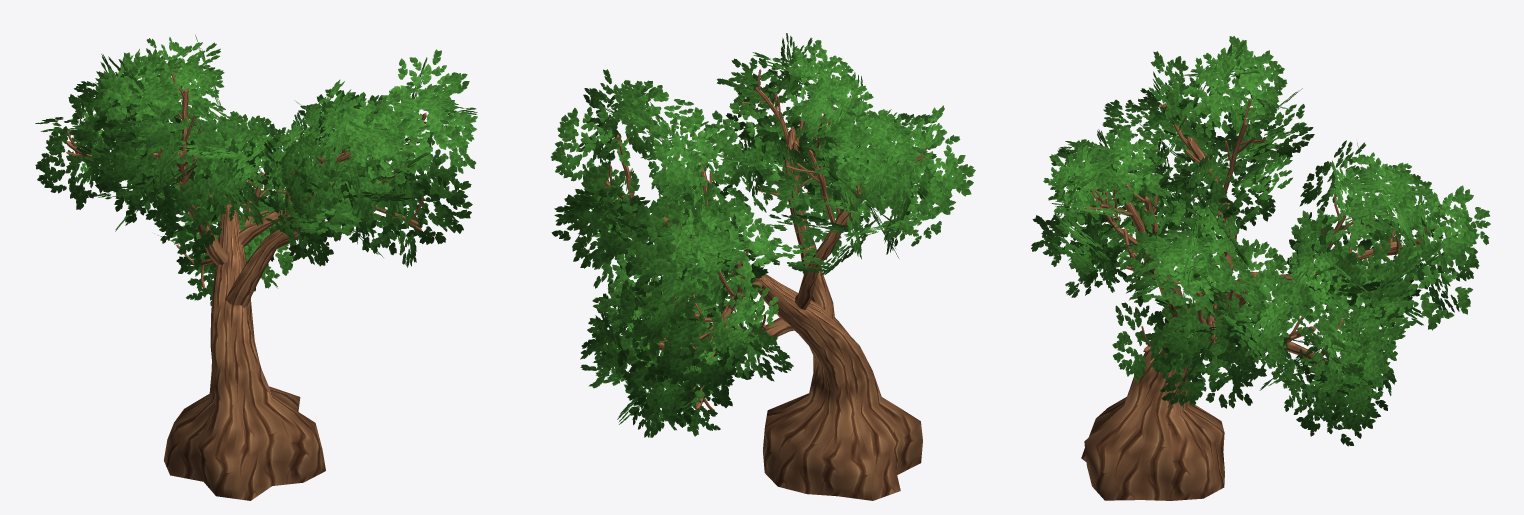
File: ct_heart_1.gltf
3 views of the same model, side by side, from view 1: azimuth 30°, elevation 25°; view 2: azimuth 150°, elevation 25°; view 3: azimuth 270°, elevation 25° (orthographic). The views are drawn at different scales.
Visible parts, largest first — view 1: ct_heart_1_leaves_LOD0, ct_heart_1_trunk_LOD0; view 2: ct_heart_1_leaves_LOD0, ct_heart_1_trunk_LOD0; view 3: ct_heart_1_leaves_LOD0, ct_heart_1_trunk_LOD0.
Part boxes in pixels (box(x1,y1,x2,y2)): ct_heart_1_leaves_LOD0: box(35, 34, 477, 305); ct_heart_1_trunk_LOD0: box(65, 72, 426, 500); ct_heart_1_leaves_LOD0: box(551, 33, 975, 437); ct_heart_1_trunk_LOD0: box(601, 69, 927, 500); ct_heart_1_leaves_LOD0: box(1031, 36, 1490, 446); ct_heart_1_trunk_LOD0: box(1081, 99, 1427, 500).
Size of what is drawn, in the model's own units: 9.58 by 9.51 by 10.08.
Materials: 2 (2 with a texture image).
